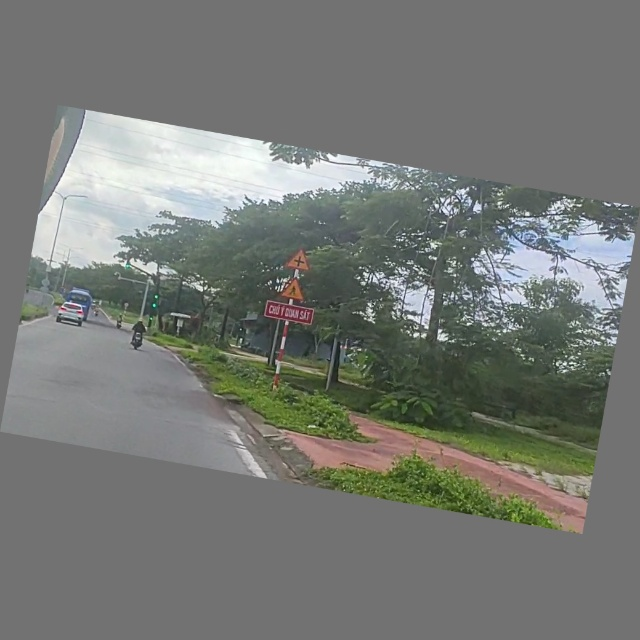W.205a: (283, 246, 313, 274)
W.224: (276, 275, 310, 304)
